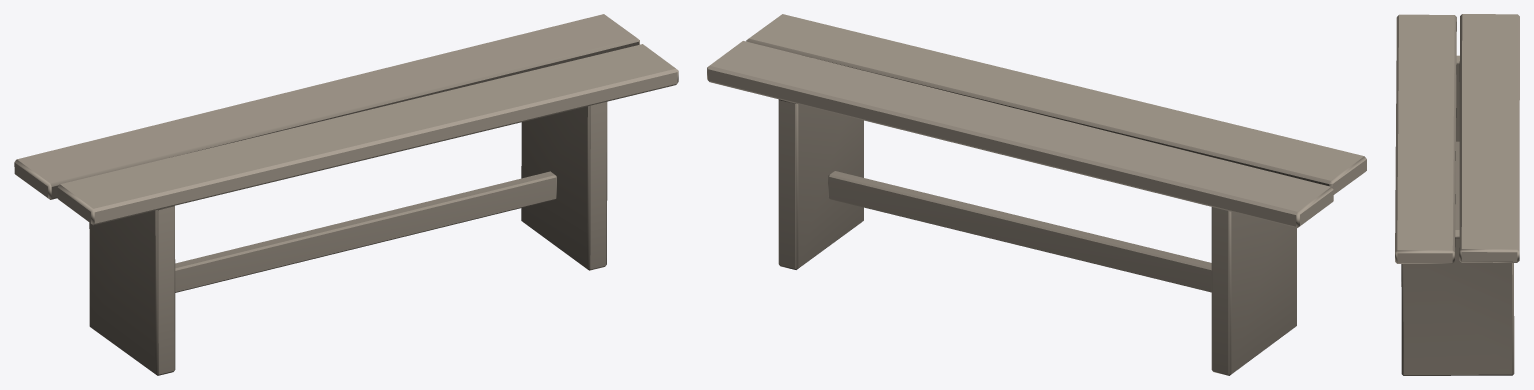
Rendered from bench_yard.glb.
3 renders of one model, left to right at view 1: azimuth 30°, elevation 25°; view 2: azimuth 150°, elevation 25°; view 3: azimuth 270°, elevation 25°, orthographic. The views are drawn at different scales.
Visible parts, largest first — view 1: static; view 2: static; view 3: static.
Boxes of the visible parts, bbox=[...] form: static: bbox=[14, 14, 678, 375]; static: bbox=[707, 14, 1366, 375]; static: bbox=[1395, 14, 1519, 375].
Bounding box in the file's own units: 1.51 × 0.4536 × 0.3331.
